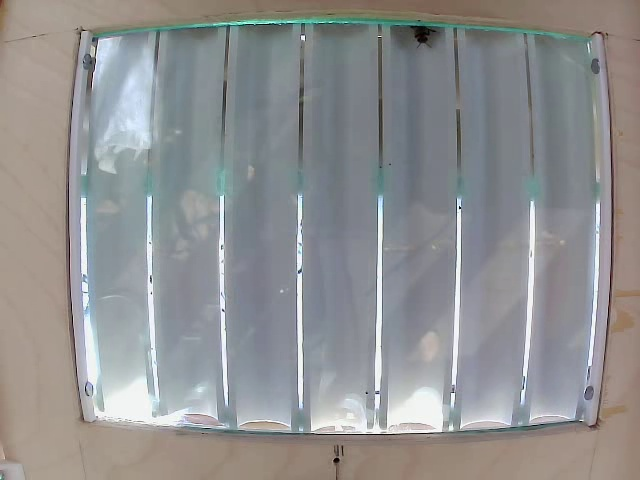bee: (407, 18, 442, 56)
